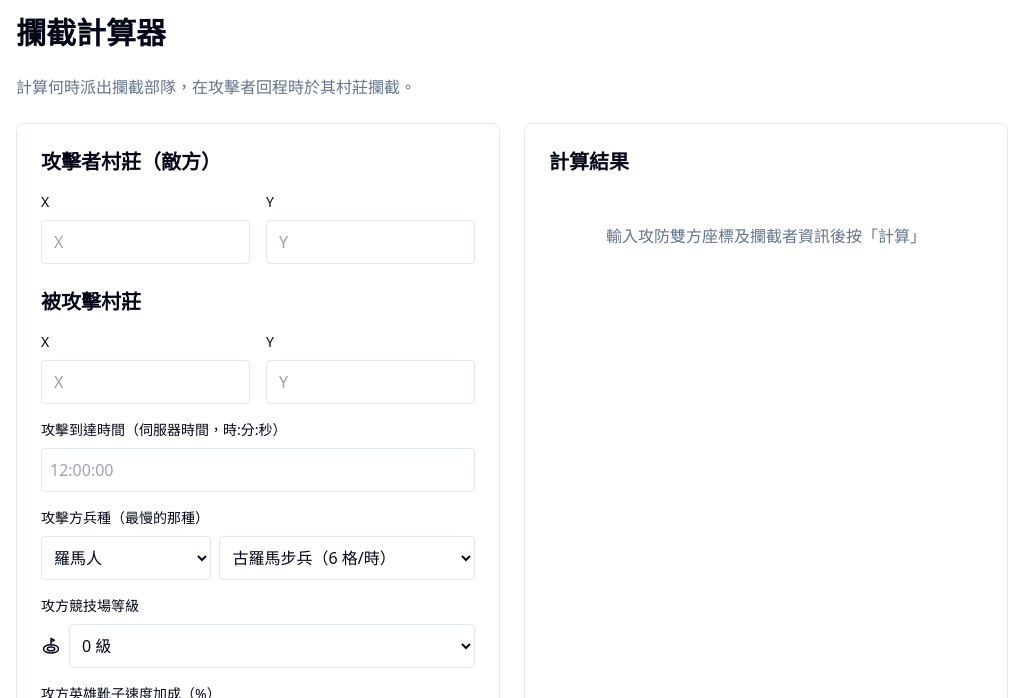
Test: 攔截計算 › backend 422 on the time shows under the field
In the field with test id "attacker-x": [146, 242] box x1=41 y1=220 x2=250 y2=264, type "1"
In the 1st field with placeholder "Y": [370, 242] box x1=266 y1=220 x2=475 y2=264, type "1"
In the 2nd field with placeholder "X": [146, 382] box x1=41 y1=360 x2=250 y2=404, type "2"
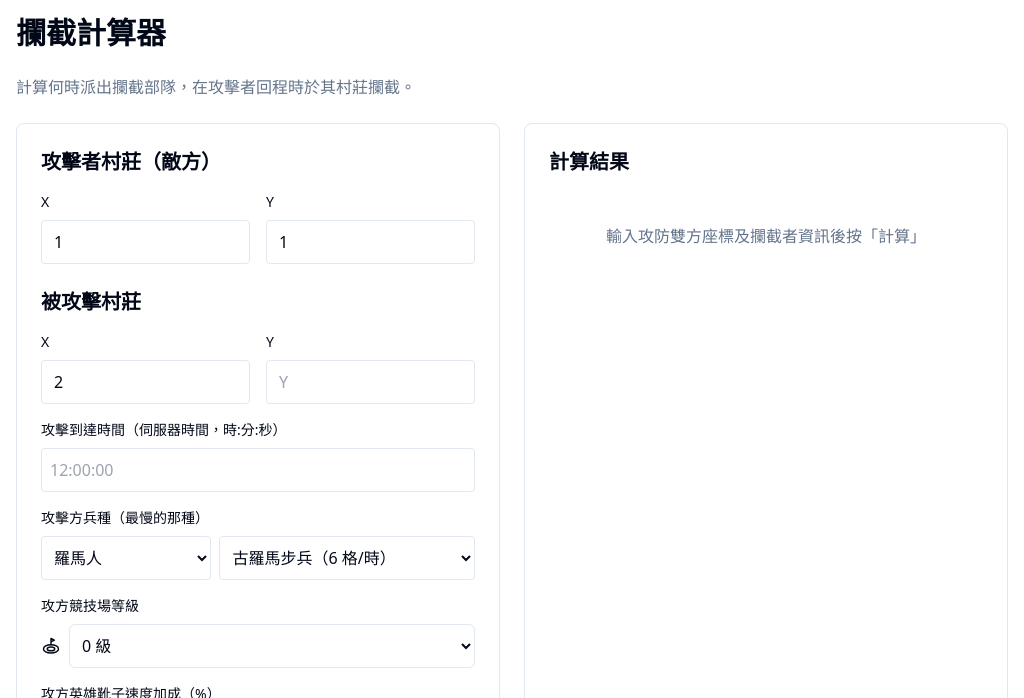
In the 2nd field with placeholder "Y": [370, 382] box x1=266 y1=360 x2=475 y2=404, type "2"
(page scrolled)
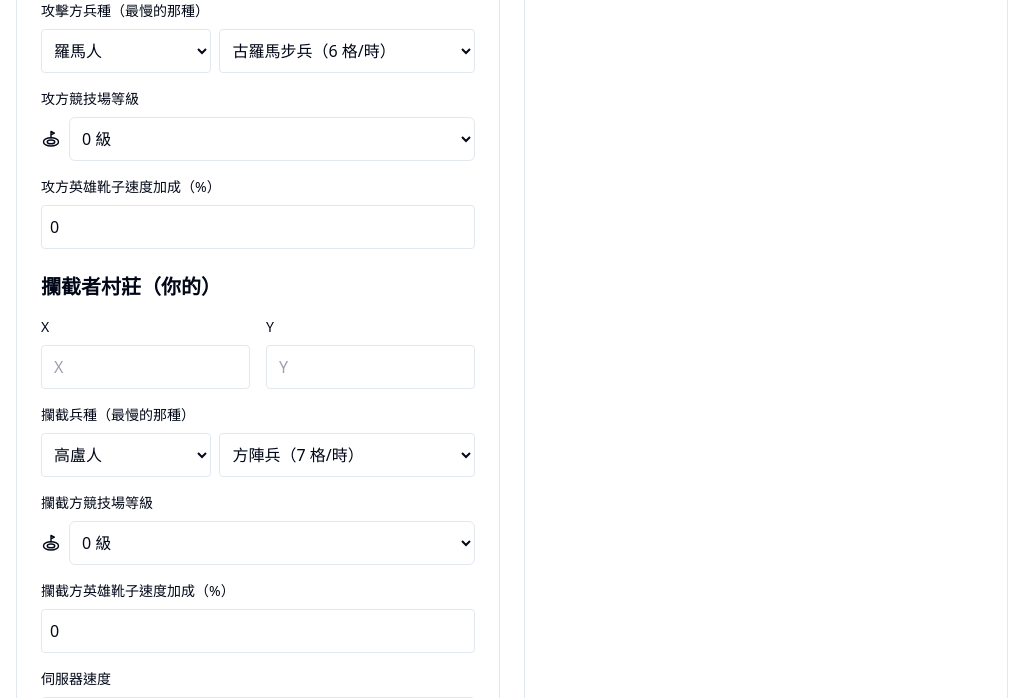
In the field with test id "catcher-x": [146, 367] box x1=41 y1=345 x2=250 y2=389, type "3"
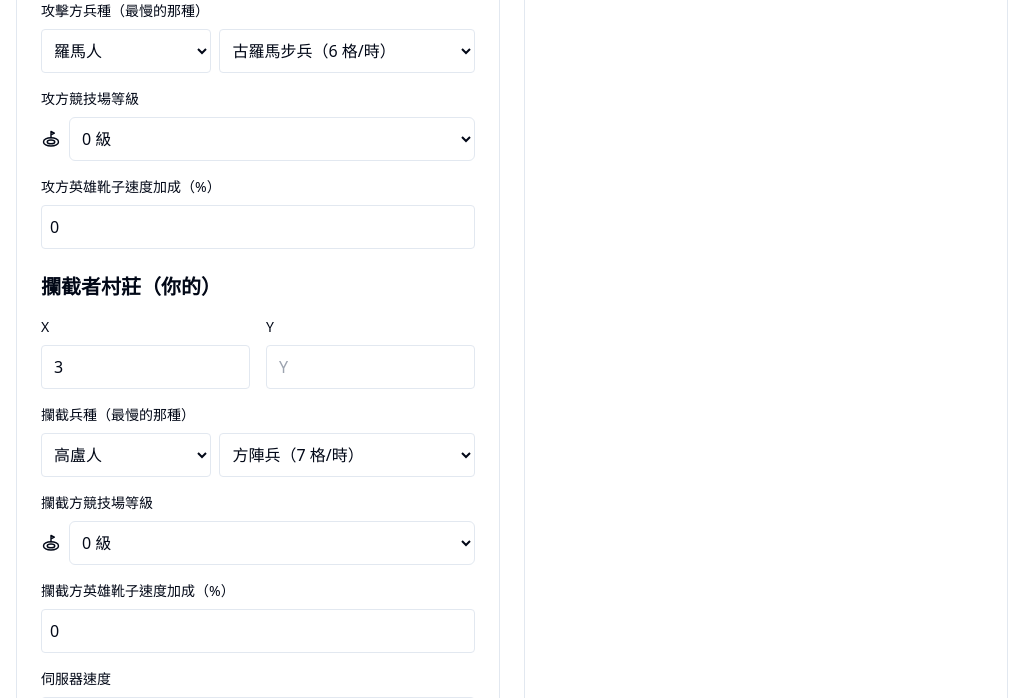
In the field with test id "catcher-y": [370, 367] box x1=266 y1=345 x2=475 y2=389, type "3"
(page scrolled)
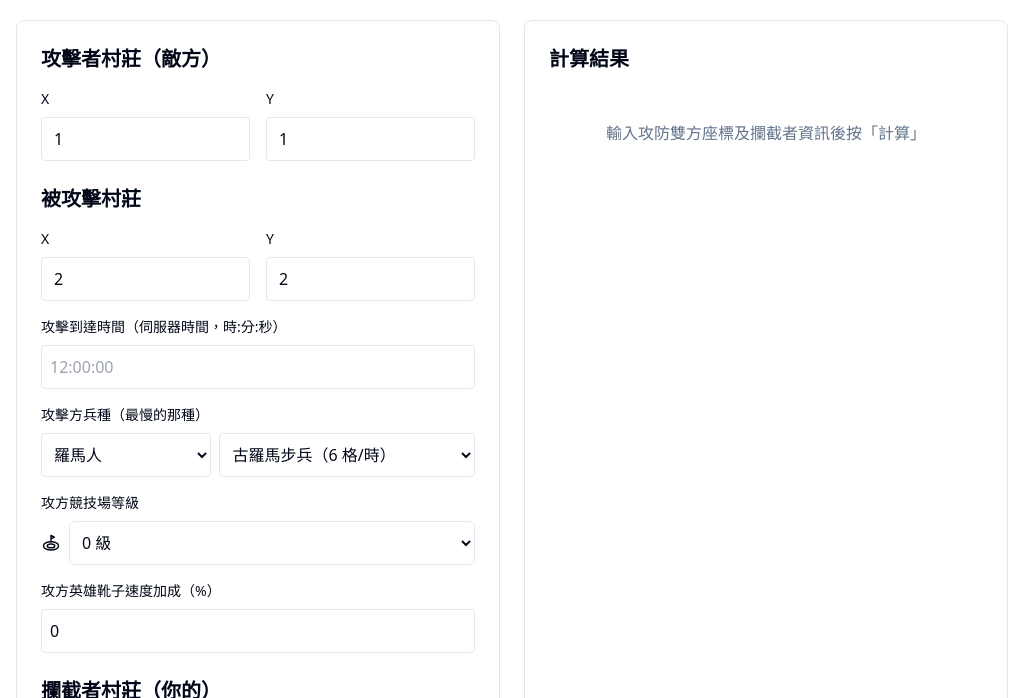
In the field with test id "intercept-arrival": [258, 367] box x1=41 y1=345 x2=475 y2=389, type "23:00:00"
(page scrolled)
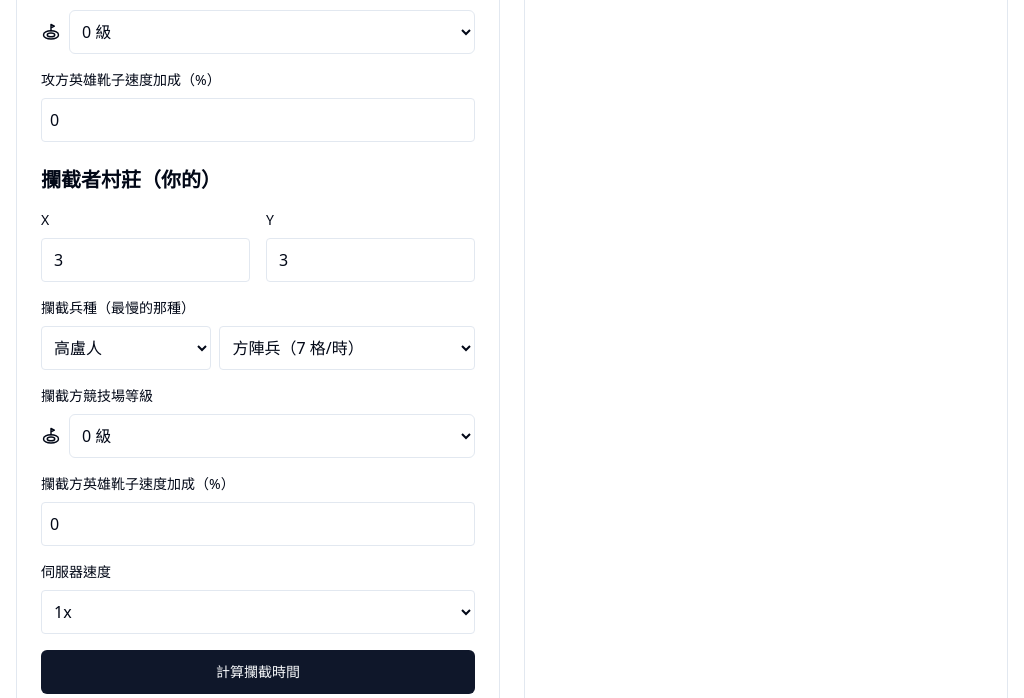
Click the button "計算攔截時間": [258, 672] box x1=41 y1=650 x2=475 y2=694
(page scrolled)
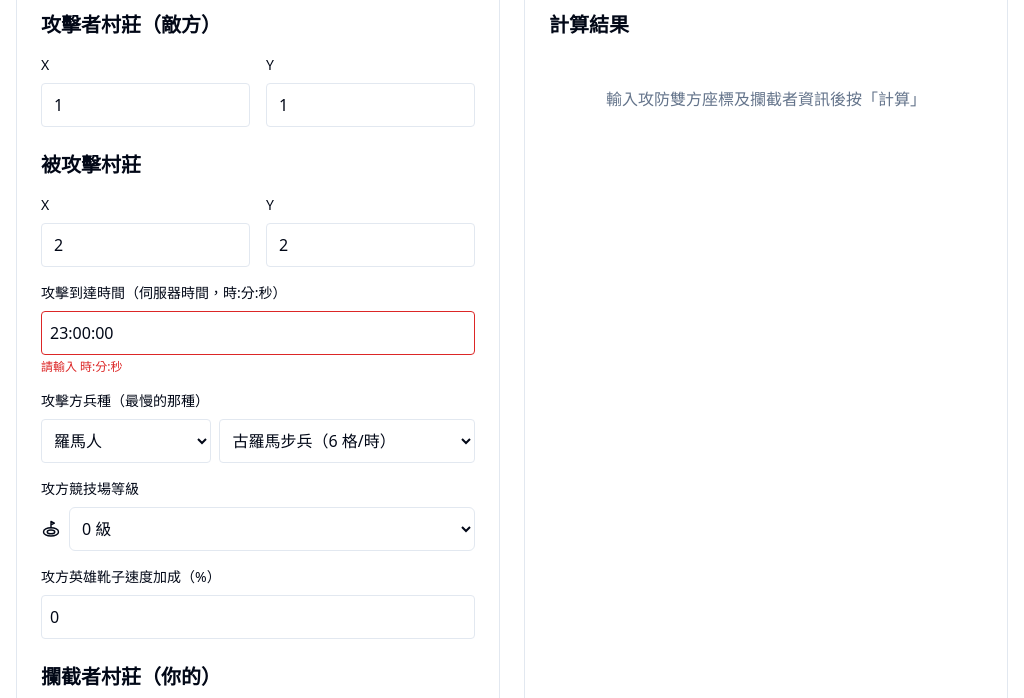
Now the message with test id "intercept-arrival-error" reads "請輸入 時:分:秒", box x1=41 y1=358 x2=123 y2=375
